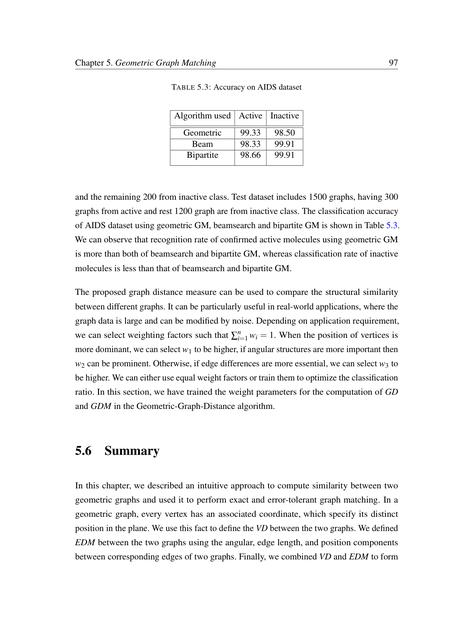box: (167, 108, 308, 168)
